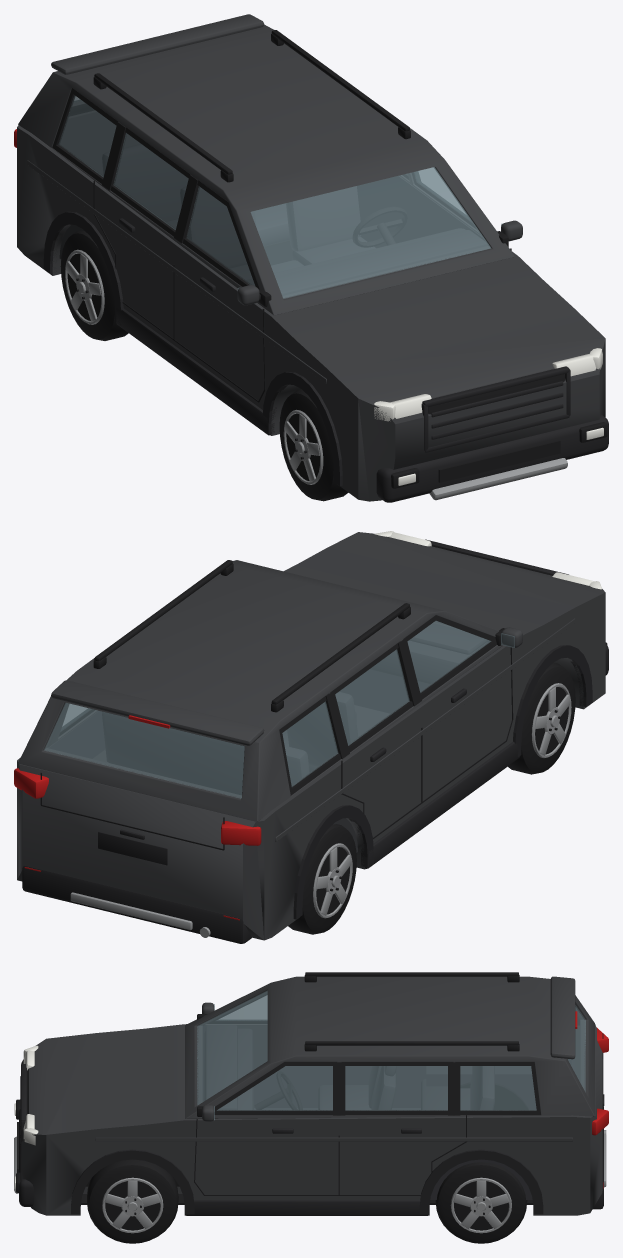
Rendered from SUV.fbx.
The picture shows the model from 3 angles, top to bottom: view 1: azimuth 30°, elevation 25°; view 2: azimuth 150°, elevation 25°; view 3: azimuth 270°, elevation 25°; orthographic projection. The views are drawn at different scales.
Visible parts, largest first — view 1: SUV_Mesh; view 2: SUV_Mesh; view 3: SUV_Mesh.
Boxes of the visible parts, box(x1,y1,x2,y2) form: SUV_Mesh: box(14, 14, 608, 502); SUV_Mesh: box(14, 531, 608, 943); SUV_Mesh: box(14, 972, 608, 1243).
Bounding box in the file's own units: 2.09 × 1.71 × 4.81.
